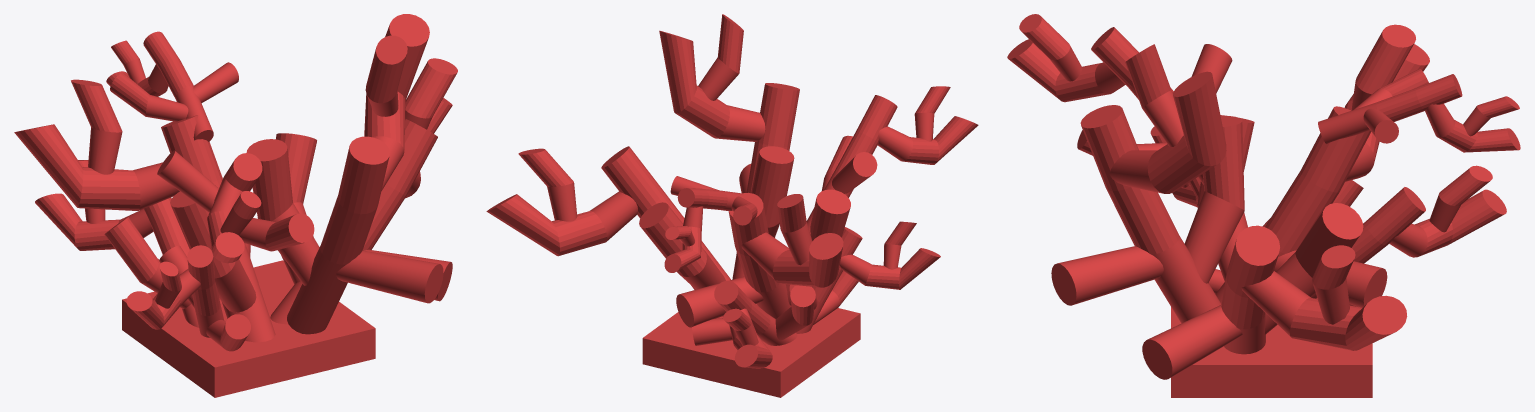
File: Sango(red).fbx
The picture shows the model from 3 angles, left to right: view 1: azimuth 30°, elevation 25°; view 2: azimuth 150°, elevation 25°; view 3: azimuth 270°, elevation 25°; orthographic projection. The views are drawn at different scales.
Visible parts, largest first — view 1: pCylinder15; view 2: pCylinder15; view 3: pCylinder15.
Boxes of the visible parts, box(x1,y1,x2,y2) form: pCylinder15: box(14, 14, 457, 397); pCylinder15: box(486, 14, 978, 397); pCylinder15: box(1007, 14, 1520, 397).
Size of the model in its own units: 16.83 by 12.48 by 16.31.
